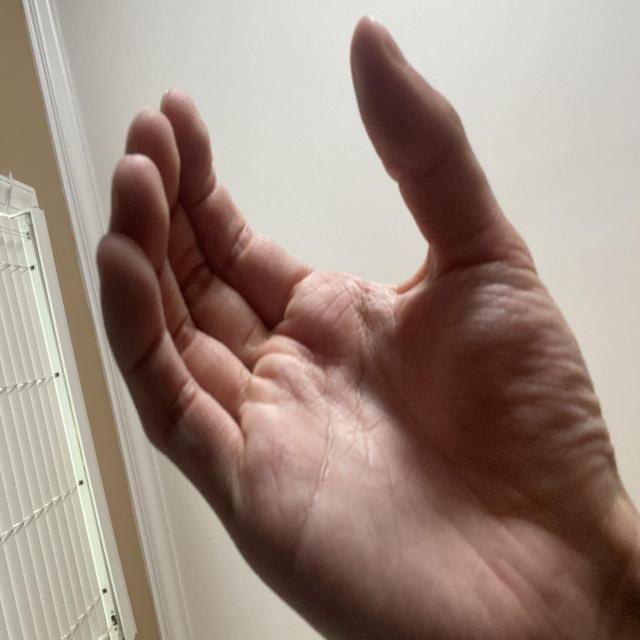C: (0, 119, 476, 640)
